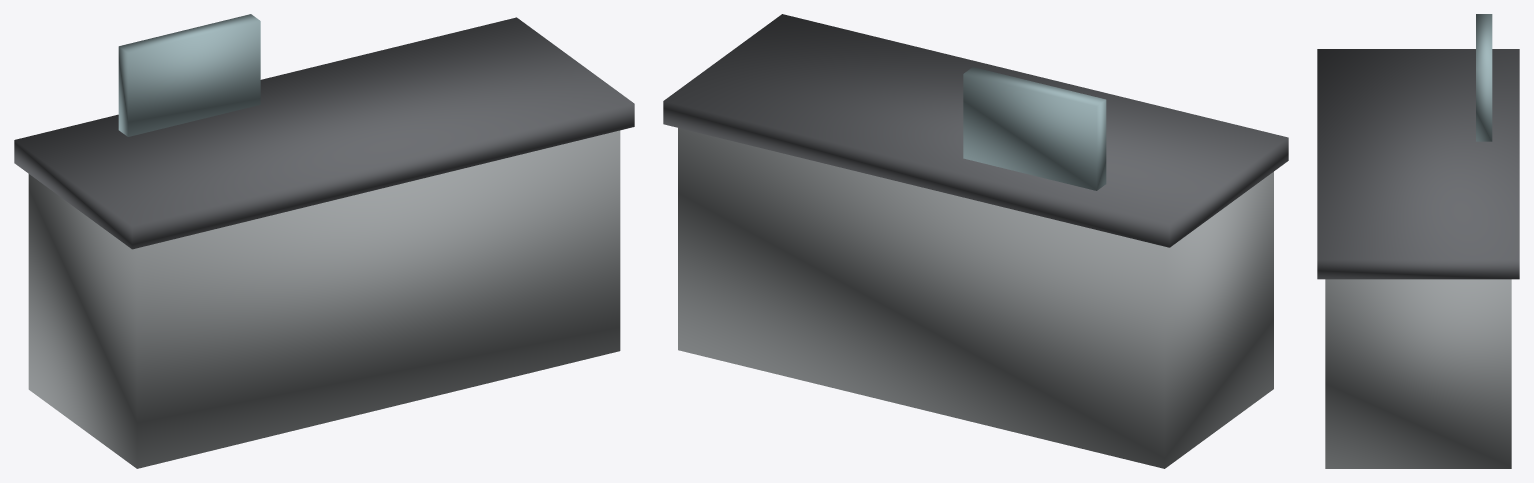
File: police_booking_desk.glb
3 renders of one model, left to right at view 1: azimuth 30°, elevation 25°; view 2: azimuth 150°, elevation 25°; view 3: azimuth 270°, elevation 25°, orthographic. The views are drawn at different scales.
Parts seen in each view (by area): view 1: world; view 2: world; view 3: world.
Part boxes in pixels (left/top/right/bottom): world: left=14, top=14, right=634, bottom=468; world: left=663, top=14, right=1288, bottom=468; world: left=1317, top=14, right=1519, bottom=468.
Size of the model in its own units: 1.82 by 1.15 by 0.74.
